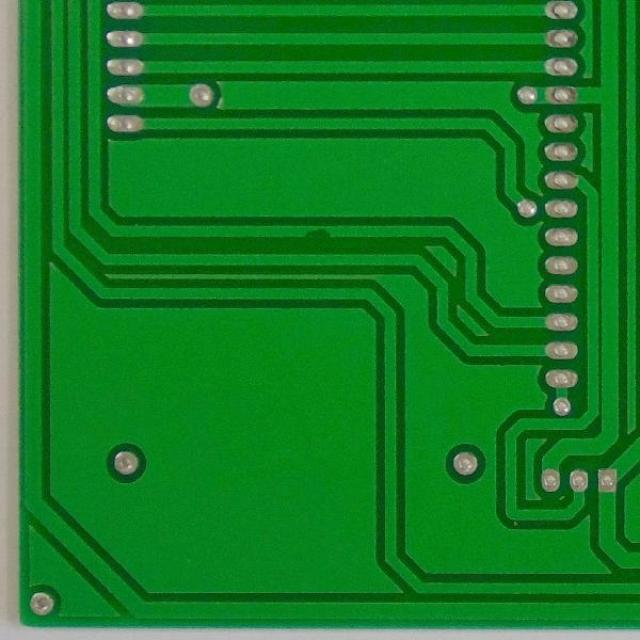mouse_bite: (295, 221, 338, 244)
